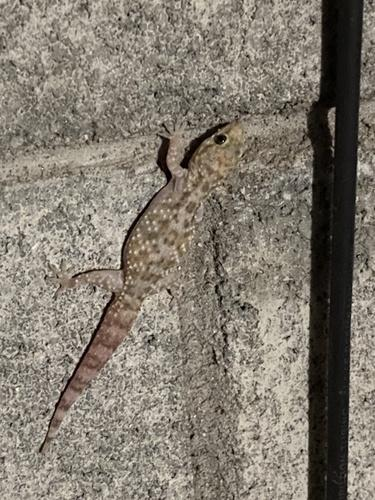lizard: (33, 108, 251, 451)
